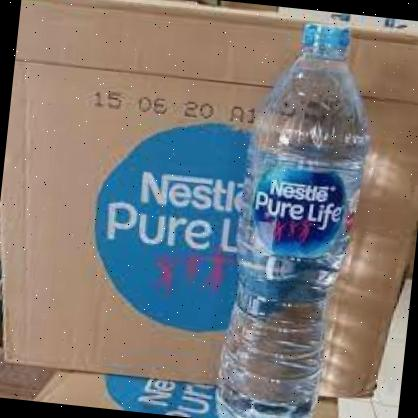bottle: (216, 16, 382, 418)
label: (239, 146, 367, 270)
